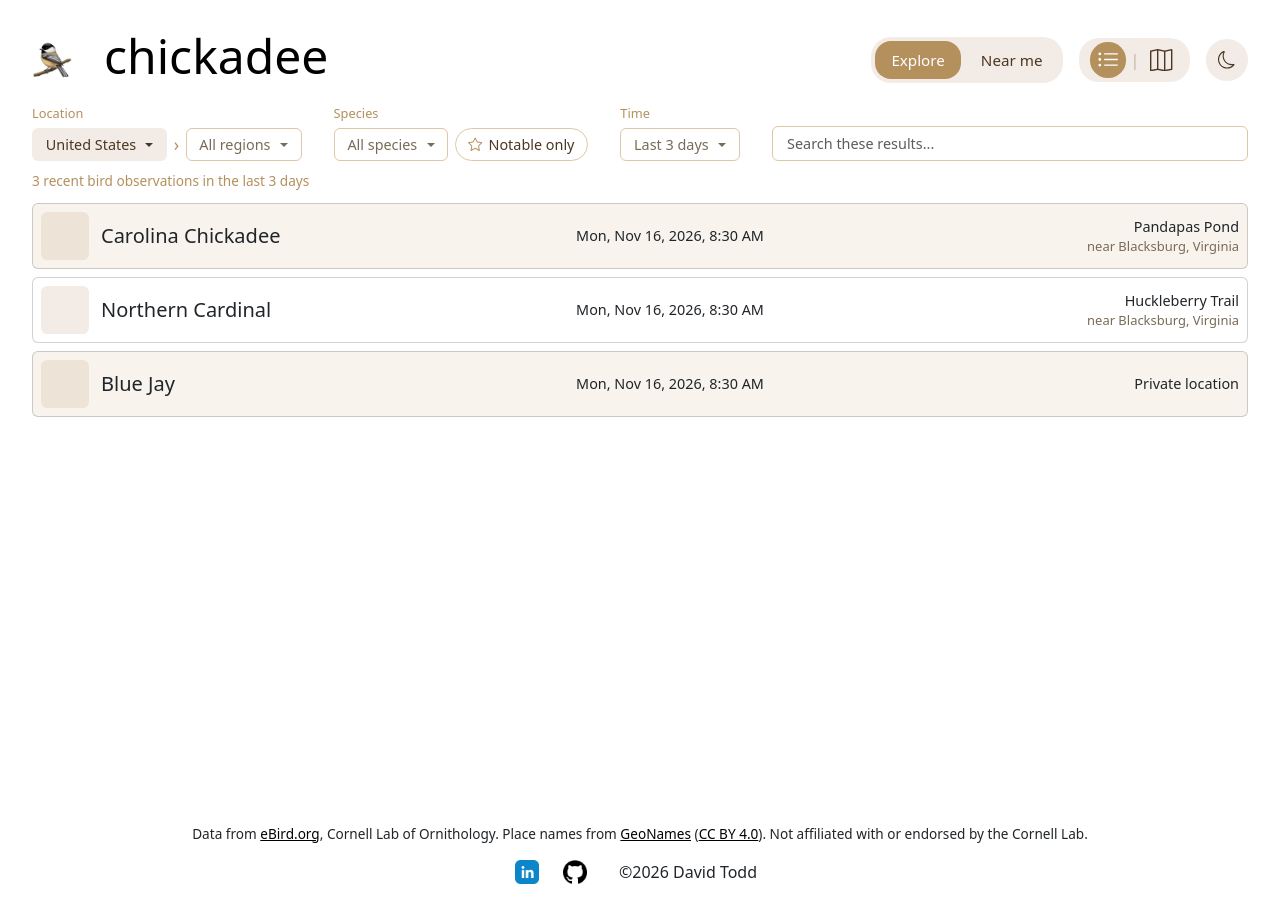
Scenario: Explore page › changes how many days back to look
Expected: the text "Blue Jay" is shown, left=101, top=370, right=175, bottom=397
Click the button "Last 3 days" at x=680, y=145, box left=620, top=128, right=740, bottom=161
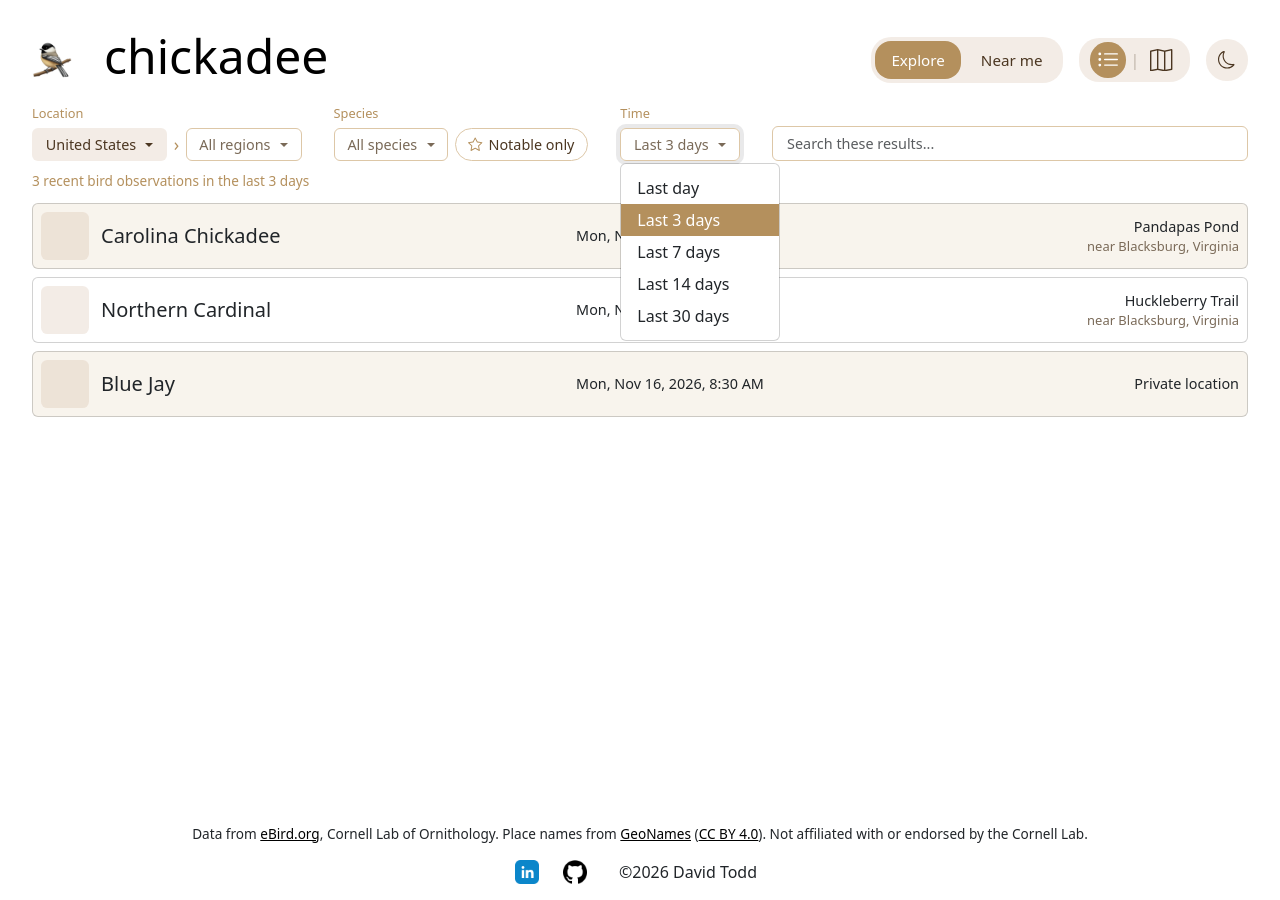
Click the button "Last 14 days" at x=683, y=284, box left=637, top=273, right=729, bottom=295
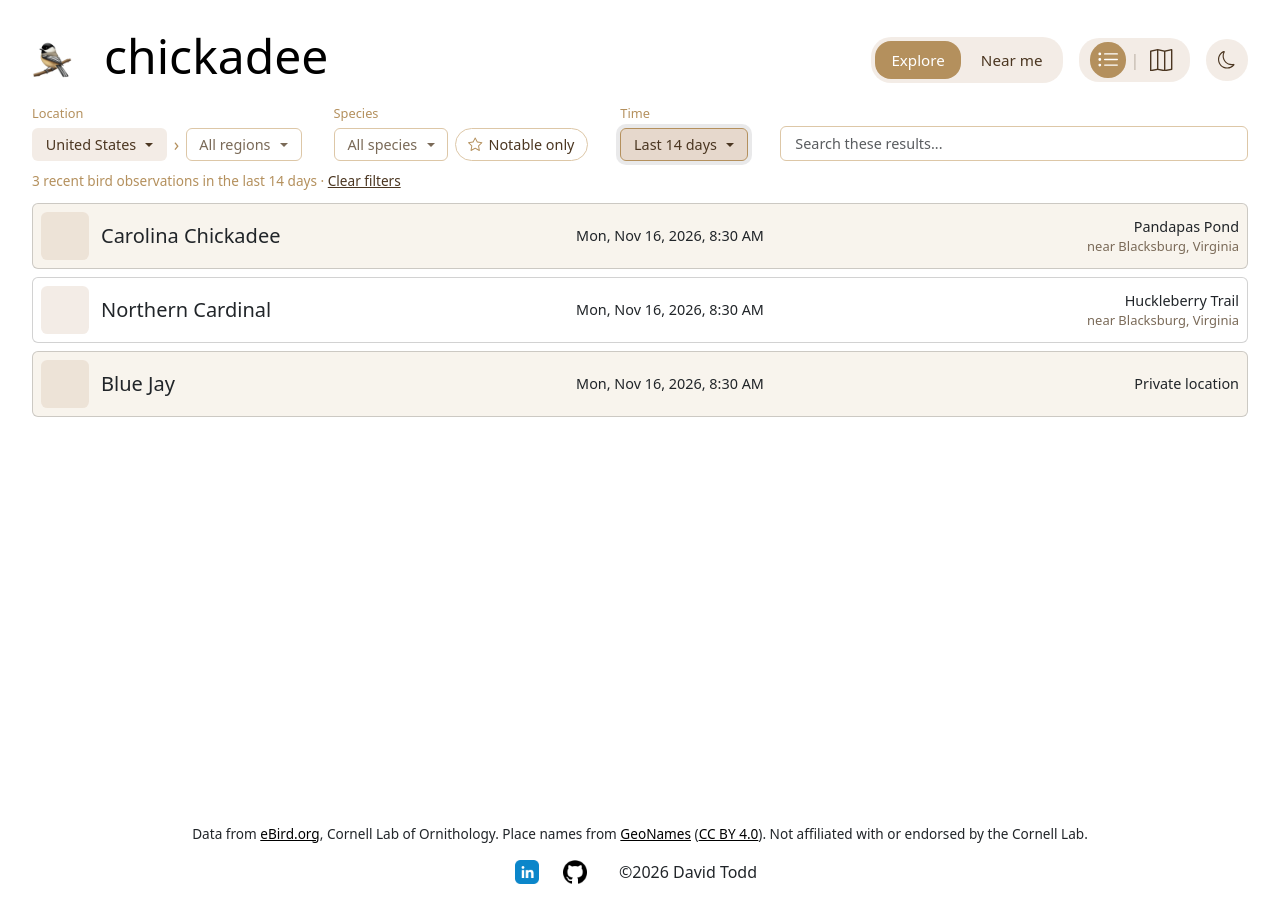
Now the element with class "observation-count" shows "in the last 14 days", box left=199, top=171, right=317, bottom=190
Now the button "Last 14 days" is shown
Click the button "Last 14 days" at x=684, y=145, box left=620, top=128, right=748, bottom=161
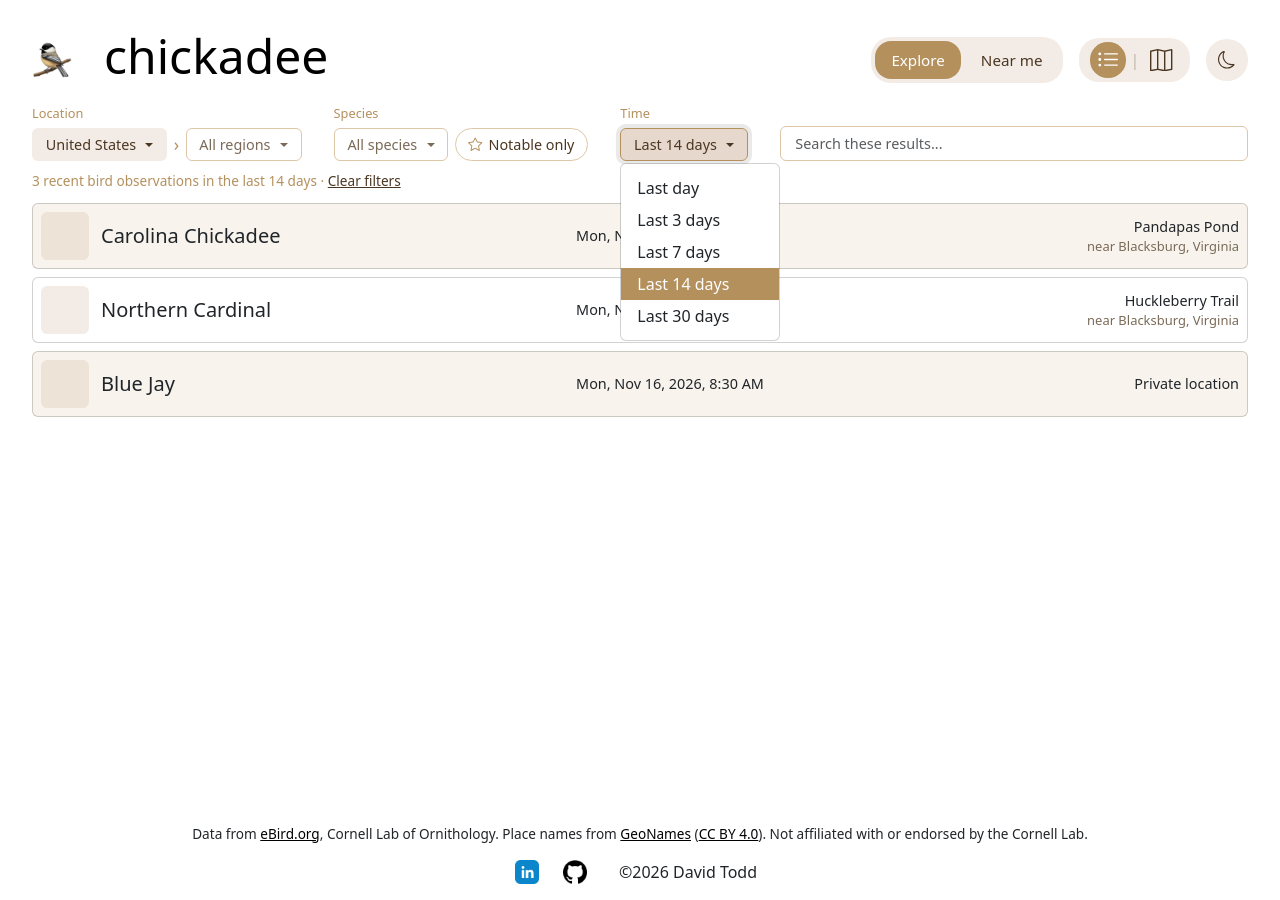
Click the button "Last day" at x=668, y=188, box left=637, top=177, right=699, bottom=199
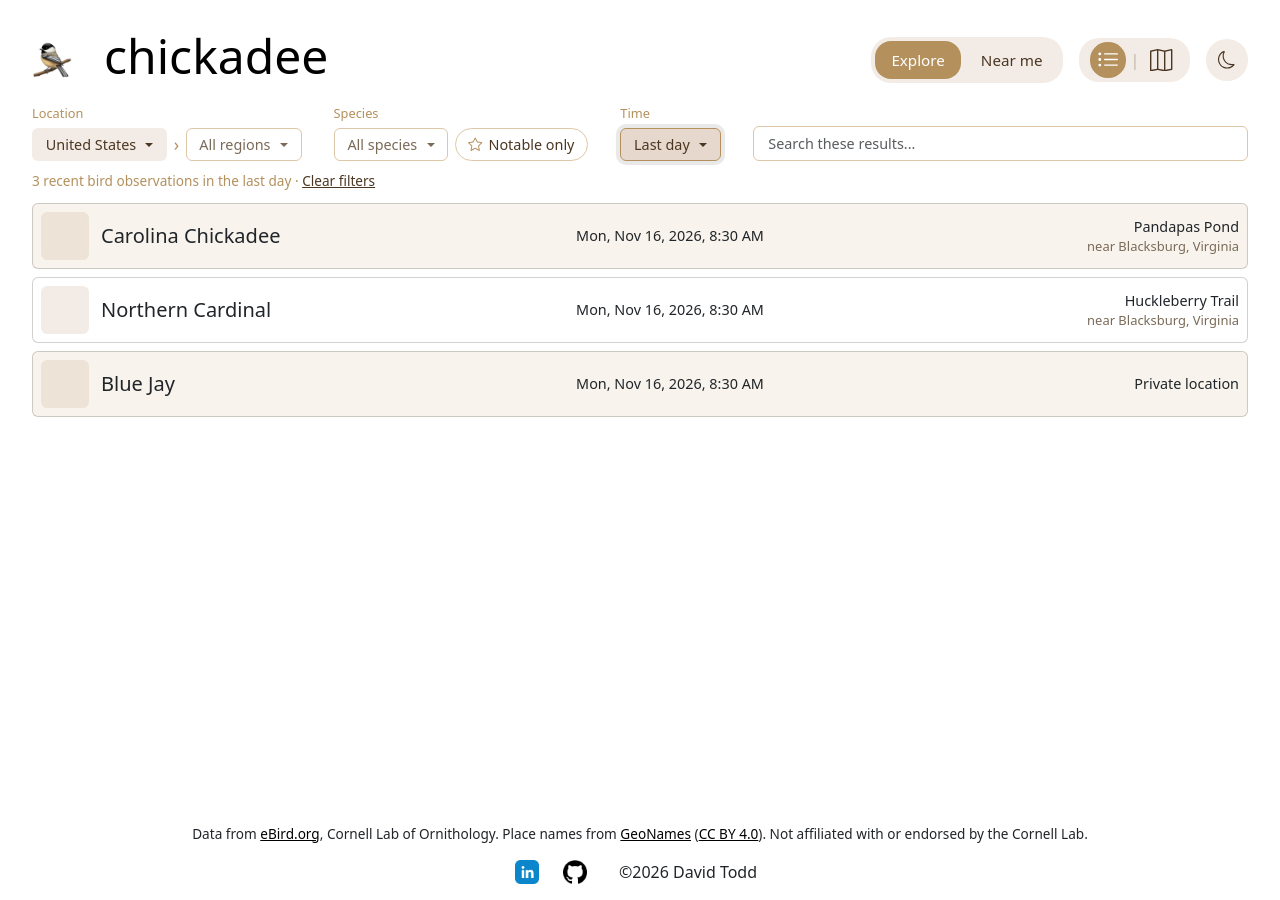
Now the element with class "observation-count" shows "3 recent bird observations in the last day", box left=32, top=171, right=375, bottom=191
